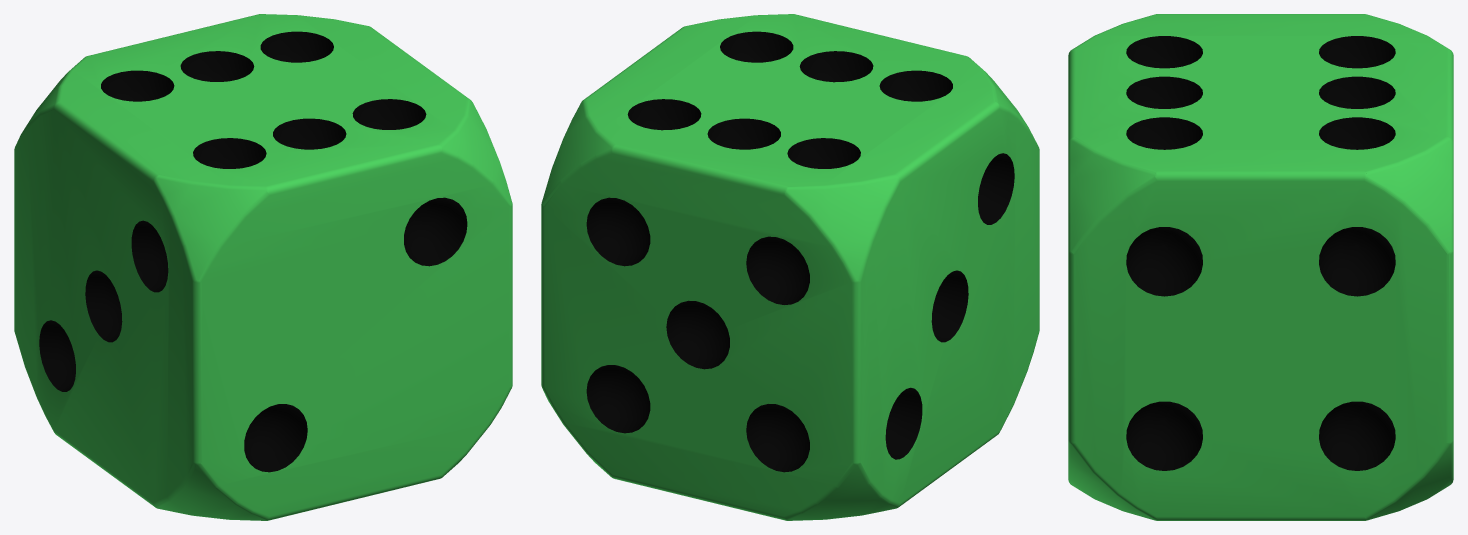
File: Dice.fbx
3 views of the same model, side by side, from view 1: azimuth 30°, elevation 25°; view 2: azimuth 150°, elevation 25°; view 3: azimuth 270°, elevation 25° (orthographic). The views are drawn at different scales.
Visible parts, largest first — view 1: dice; view 2: dice; view 3: dice.
Boxes of the visible parts, x1=… form: dice: x1=14, y1=14, x2=512, y2=520; dice: x1=541, y1=14, x2=1039, y2=520; dice: x1=1068, y1=14, x2=1453, y2=520.
Size of the model in its own units: 12000 by 12000 by 12000.
